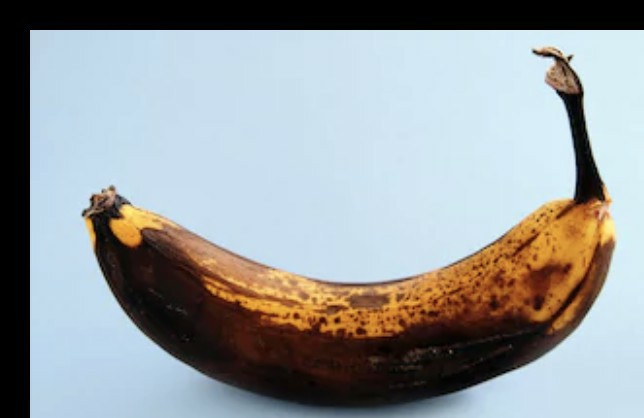rotten_banana: (90, 93, 622, 407)
